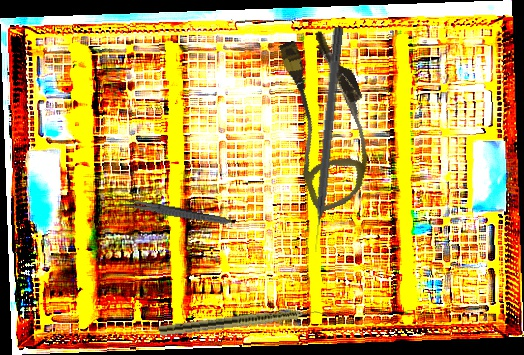Cannula: (258, 24, 395, 215)
Dressing Forceps: (117, 196, 232, 228)
Handpiece: (157, 304, 332, 339)
Pusher: (307, 26, 345, 253)
